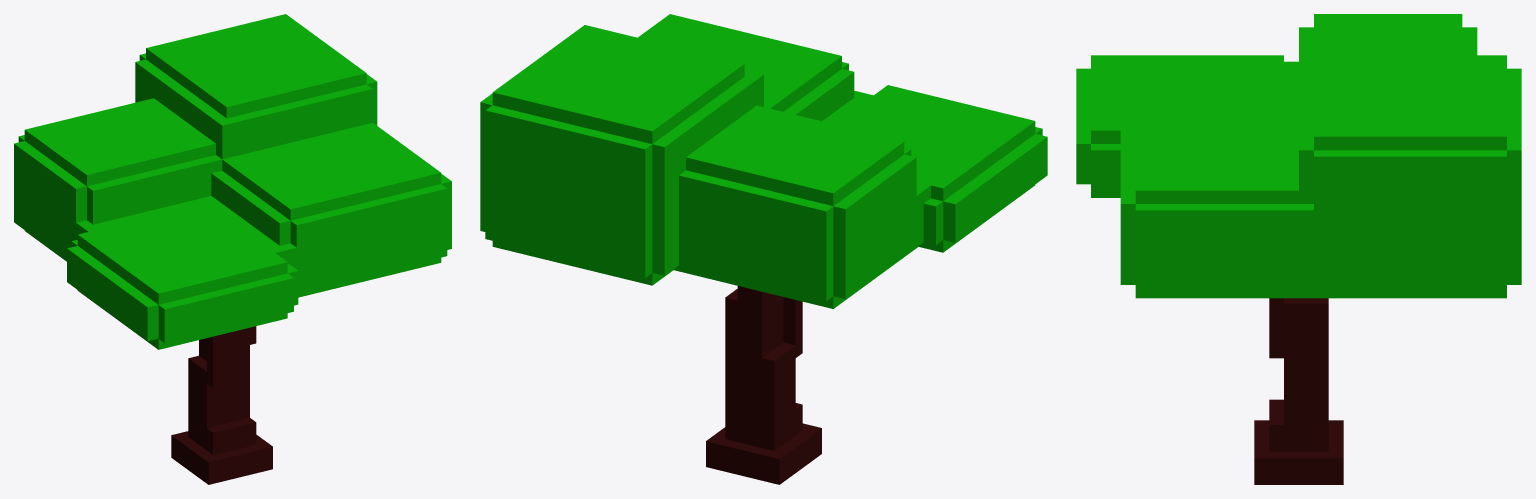
Rendered from Tree_0_2.fbx.
3 views of the same model, side by side, from view 1: azimuth 30°, elevation 25°; view 2: azimuth 150°, elevation 25°; view 3: azimuth 270°, elevation 25° (orthographic). The views are drawn at different scales.
Visible parts, largest first — view 1: Tree_0_2; view 2: Tree_0_2; view 3: Tree_0_2.
Boxes of the visible parts, bbox=[...] form: Tree_0_2: bbox=[14, 14, 451, 484]; Tree_0_2: bbox=[480, 14, 1047, 484]; Tree_0_2: bbox=[1076, 14, 1521, 484].
Bounding box in the file's own units: 3000 × 3100 × 3000.
